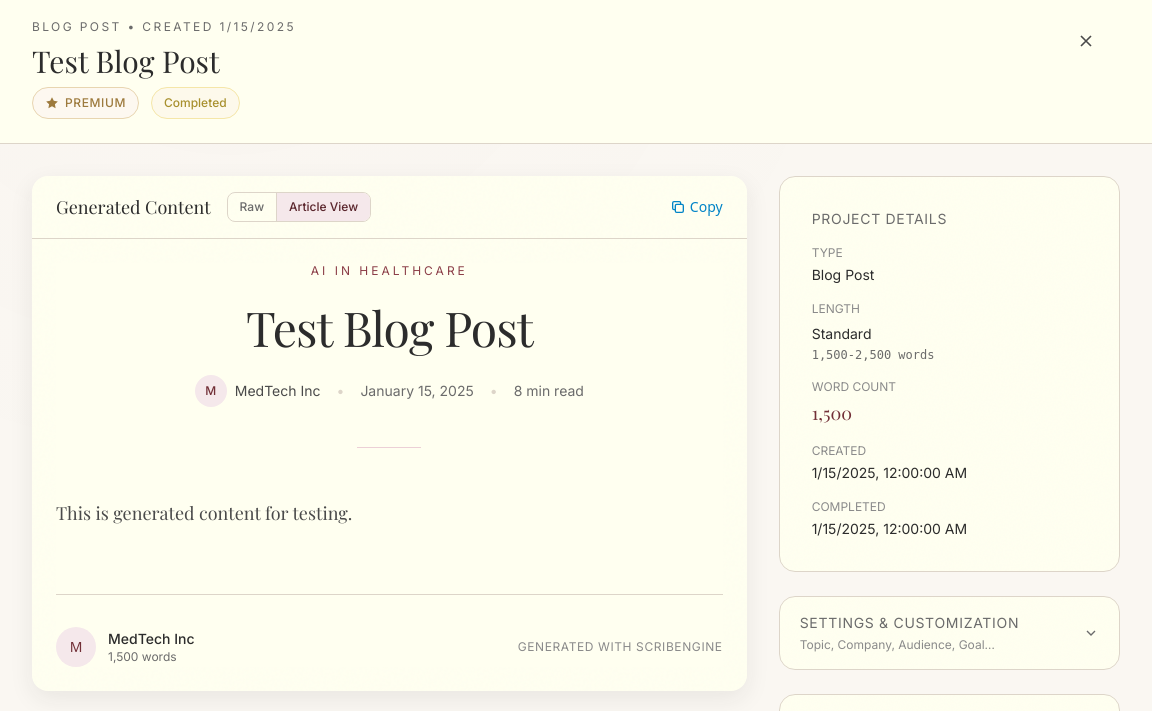
Project Settings Panel › Settings Panel Visibility › expands when header is clicked
What coordinates should you click on to do the following:
click the heading "Settings & Customization"
I would click on:
 (909, 623)
Its box is [800,613,1019,633].
(page scrolled)
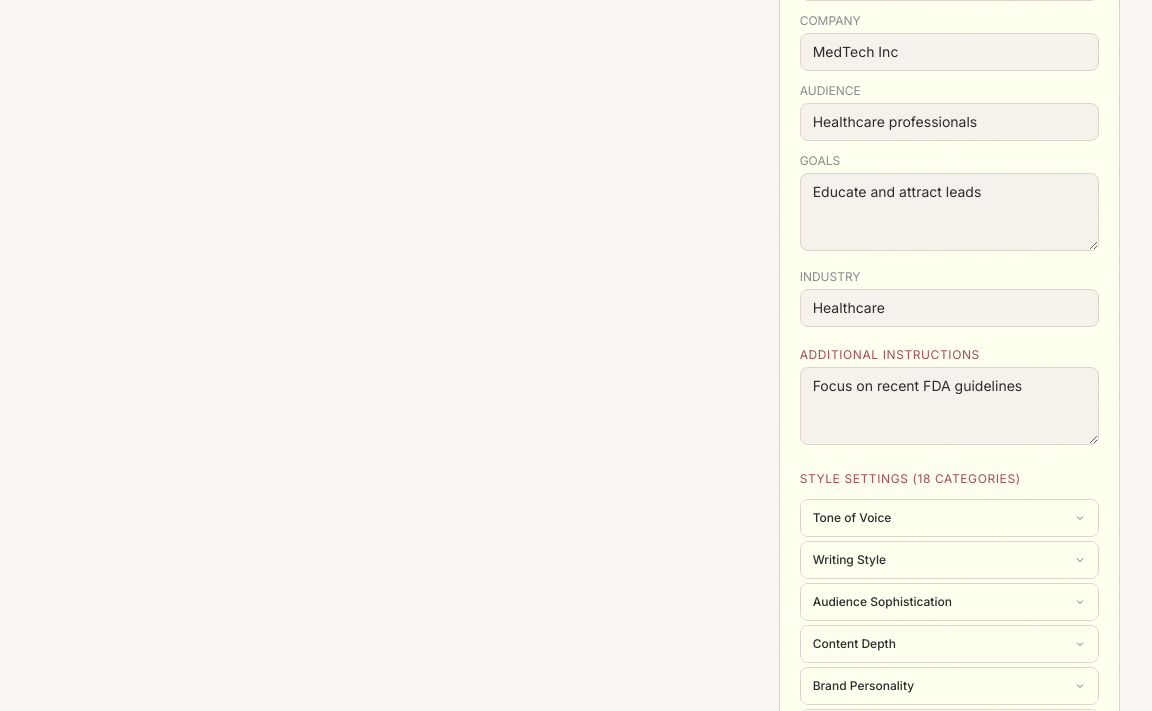
Expected: the text "Additional Instructions" is shown, [800,347,980,362]
